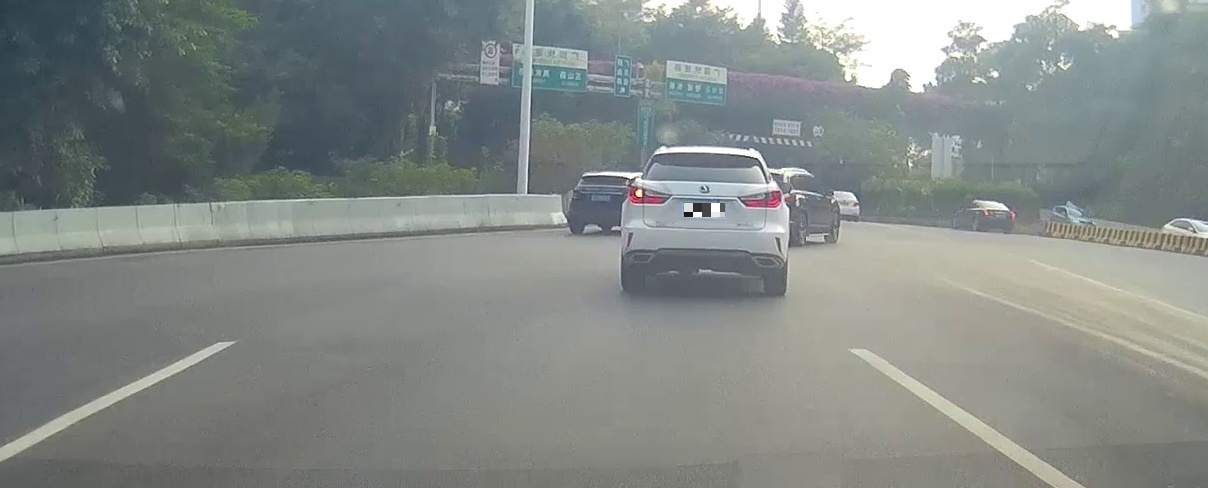L_light: (629, 185, 672, 205)
R_light: (737, 190, 781, 208)
T_light: (695, 154, 718, 157)
day-left: (621, 148, 789, 296)
plate_1: (684, 203, 725, 217)
